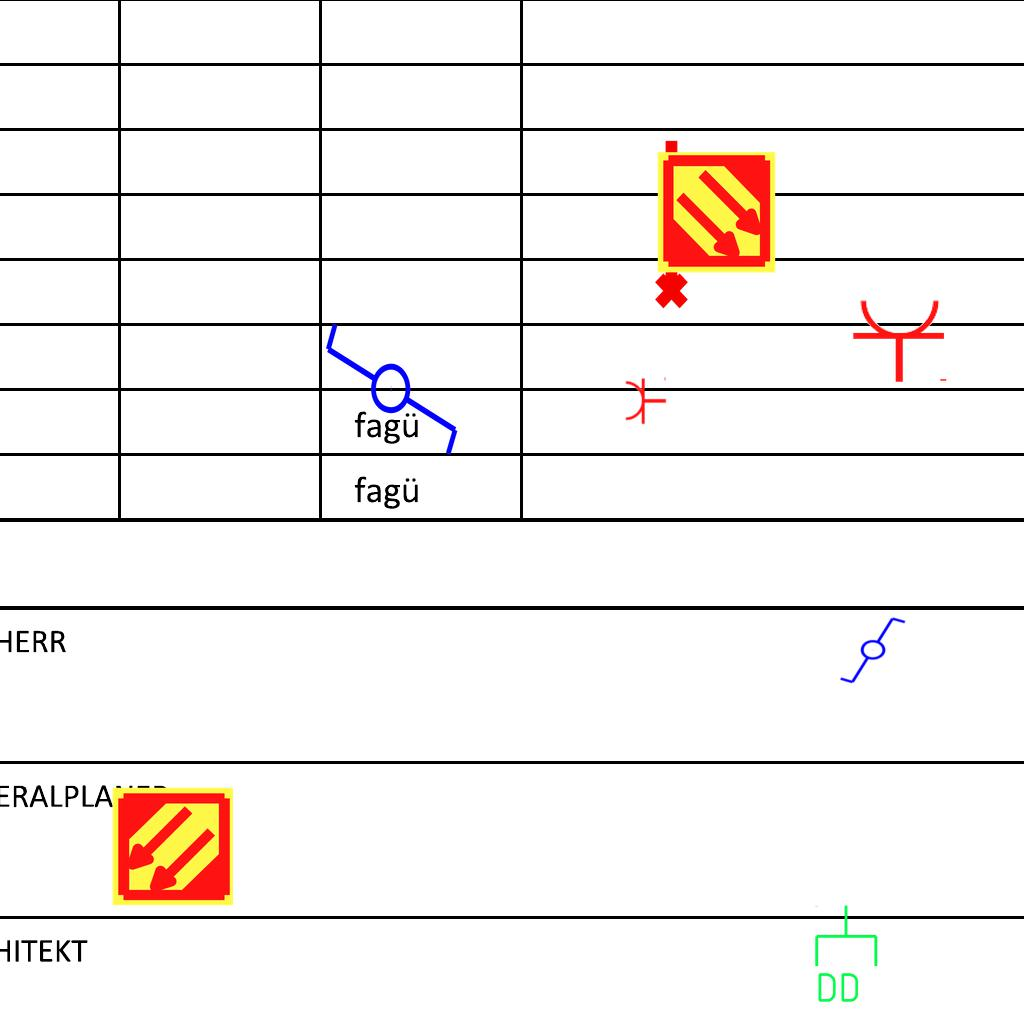ASR_Ansaugoeffnung: (646, 135, 692, 311)
ASR_Ansaugrauchmelder: (110, 784, 235, 909), (654, 150, 779, 275)
Datenanschluss_zweifach: (811, 903, 880, 1006)
Schukosteckdose_einfach: (851, 297, 951, 384), (624, 375, 667, 425)
Wechselschalter: (321, 302, 465, 459), (838, 615, 916, 687)
